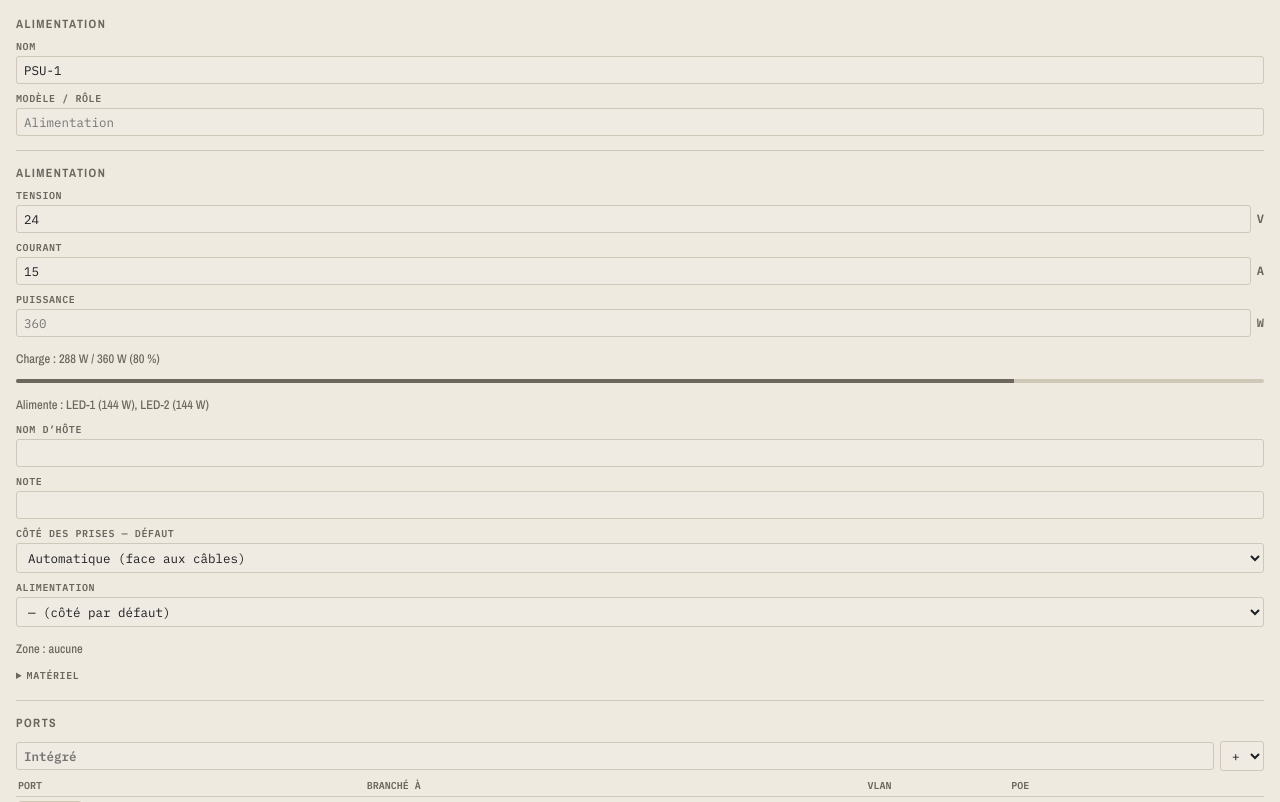
Test: alimentation › signale la surcharge quand le courant baisse
Step 1. Replace the text in the field named "Courant (A)" with "10" → (633, 271), box x1=16 y1=257 x2=1251 y2=285
Then press Enter
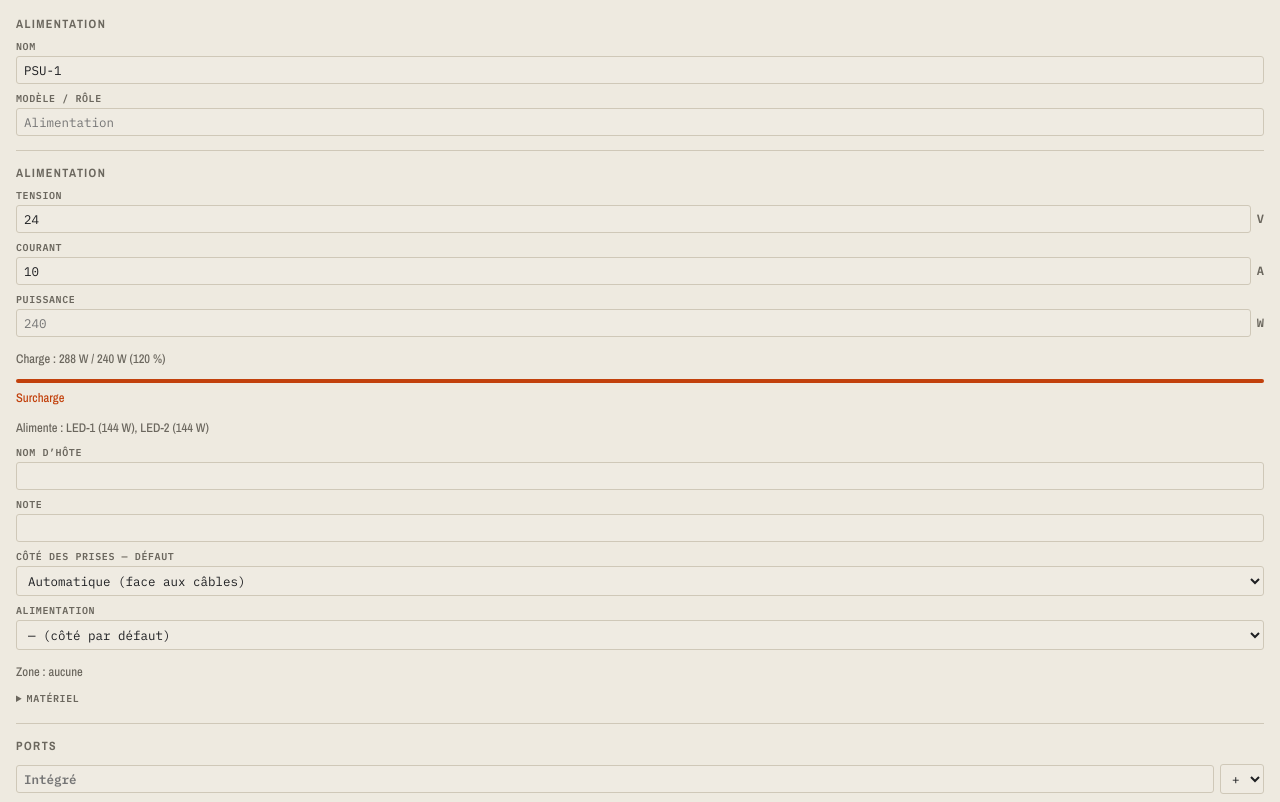
Expected: the text "Charge : 288 W / 240 W (120 %)" is shown, x1=16 y1=350 x2=165 y2=366
Expected: the text "Surcharge" is shown, x1=16 y1=389 x2=64 y2=406
